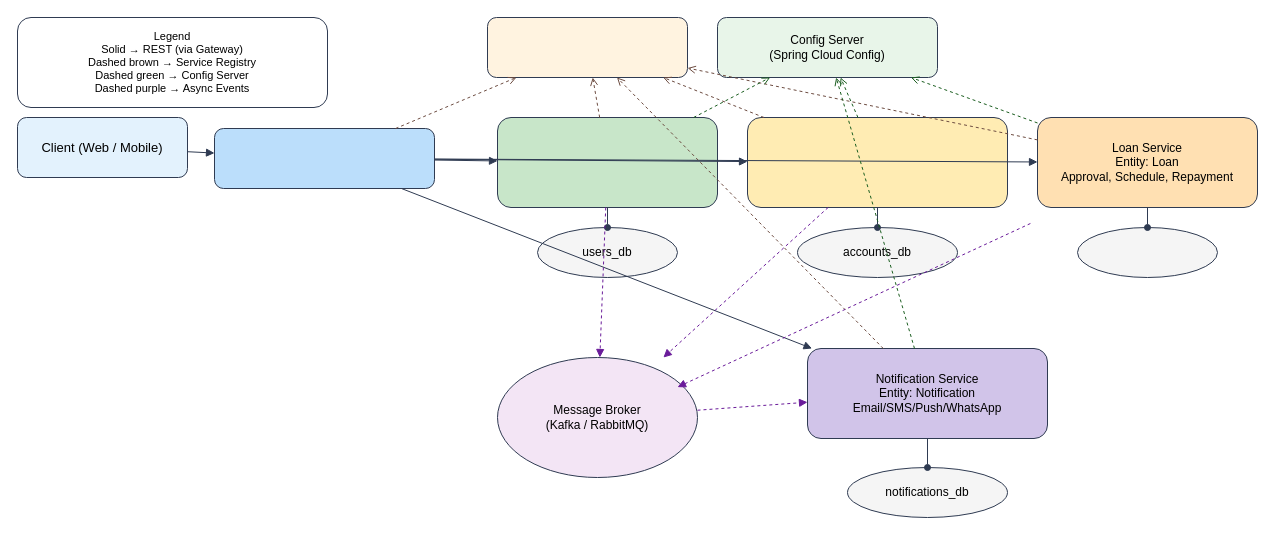
Image size: 1275x535. Some labels were removed from this diagram. The shapes that lost their labels are listed below. From the top down, each one's box as (x1, y1, x2, y2) in pixels, then its label:
(486, 16, 688, 78): Service Registry (Eureka / Consul)
(214, 128, 434, 188): API Gateway (Spring Cloud Gateway)
(496, 116, 718, 208): User Service Entities: User, Employee, AccessLog Auth: JWT / RBAC
(746, 116, 1008, 208): Account Service Entities: Account, Transaction, Card, FixedDeposit
(1076, 226, 1218, 278): loans_db
